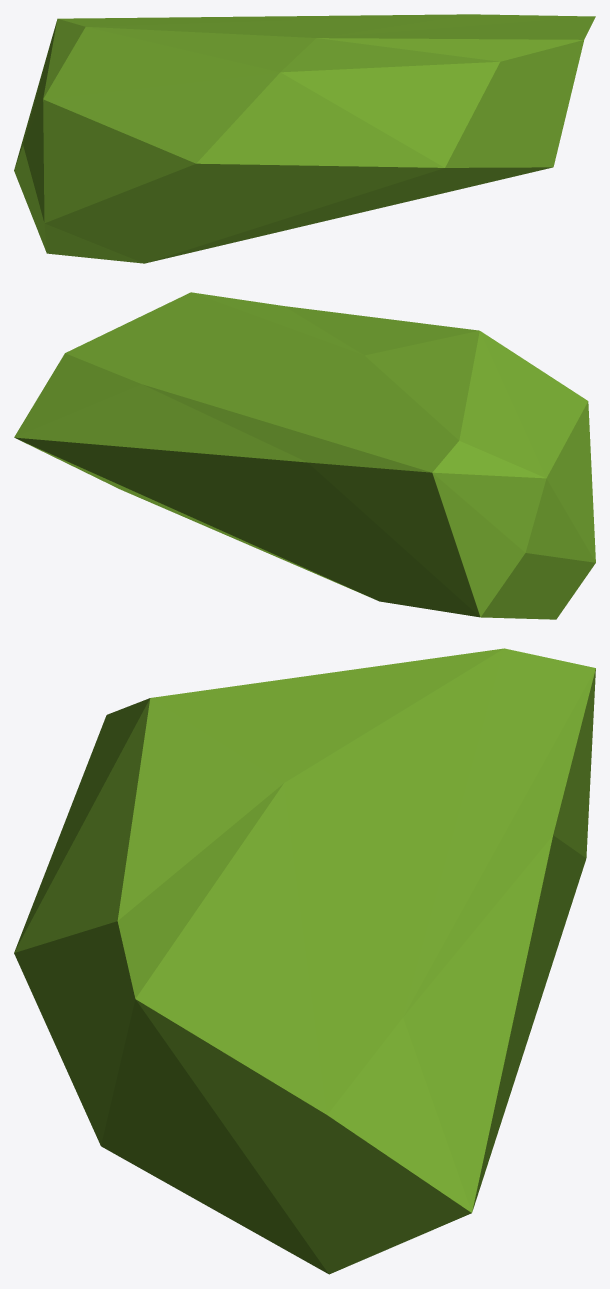
File: Natures2p3-green.fbx
3 views of the same model, one above another, from view 1: azimuth 30°, elevation 25°; view 2: azimuth 150°, elevation 25°; view 3: azimuth 270°, elevation 25° (orthographic). The views are drawn at different scales.
Visible parts, largest first — view 1: p3-green; view 2: p3-green; view 3: p3-green.
Part boxes in pixels (left/top/right/bottom): p3-green: left=14, top=14, right=595, bottom=263; p3-green: left=14, top=292, right=595, bottom=619; p3-green: left=14, top=648, right=595, bottom=1274.
Bounding box in the file's own units: 517 × 178 × 286.
